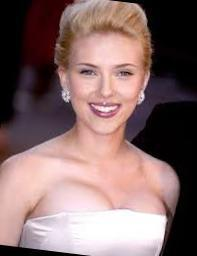Sober: (71, 40, 140, 131)
